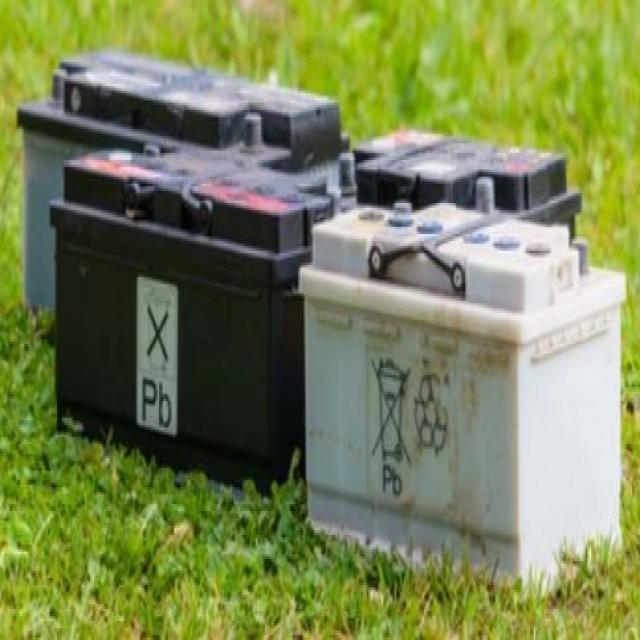electronic: (288, 174, 636, 612)
